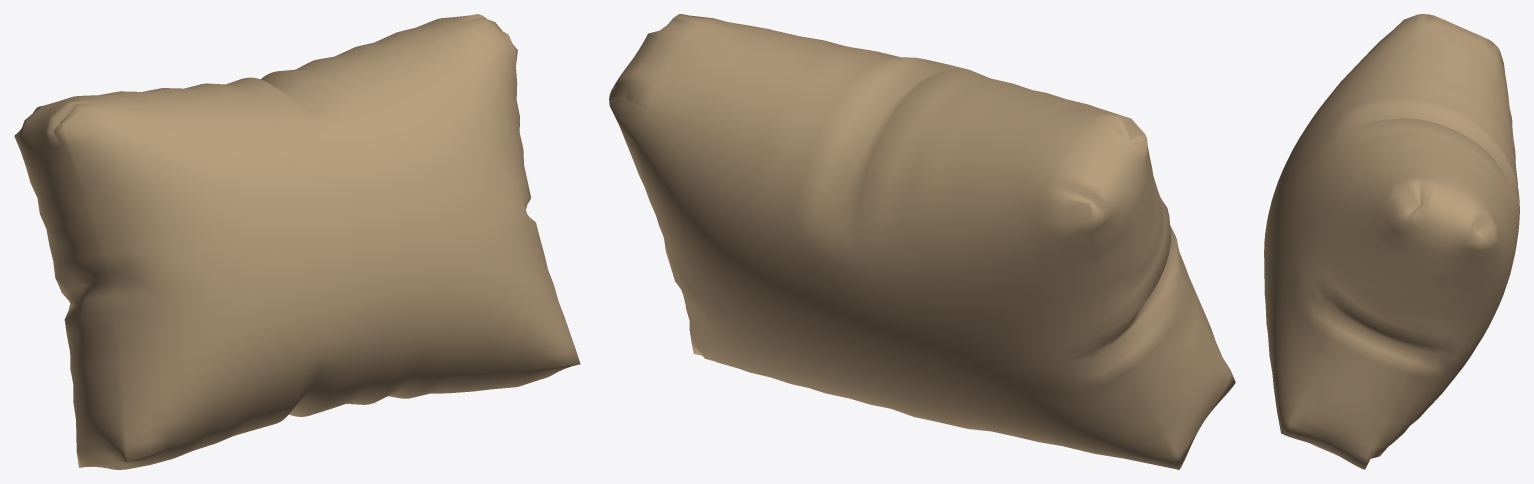
The model's file is coussin2.glb.
3 renders of one model, left to right at view 1: azimuth 30°, elevation 25°; view 2: azimuth 150°, elevation 25°; view 3: azimuth 270°, elevation 25°, orthographic. The views are drawn at different scales.
Parts seen in each view (by area): view 1: Coussin.002; view 2: Coussin.002; view 3: Coussin.002.
Part boxes in pixels (x1,y1,x2,y2): Coussin.002: [14, 14, 580, 469]; Coussin.002: [609, 14, 1235, 469]; Coussin.002: [1264, 14, 1519, 469].
Bounding box in the file's own units: 4.93 × 3.45 × 2.81.
